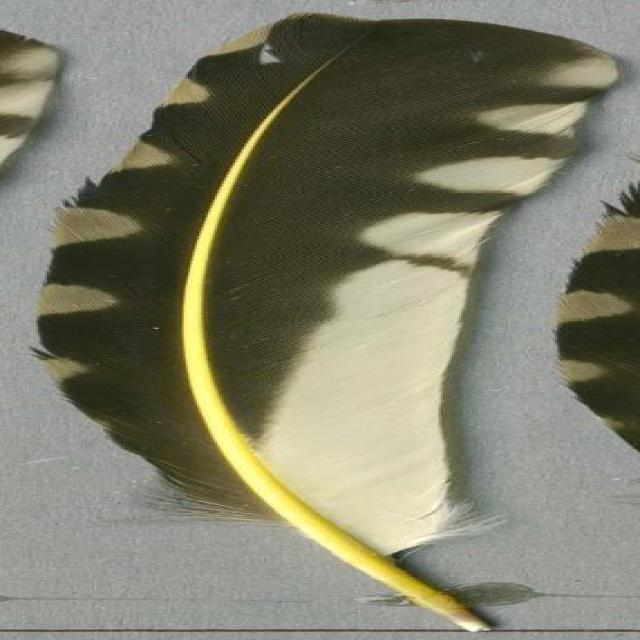feather: (22, 12, 632, 637)
